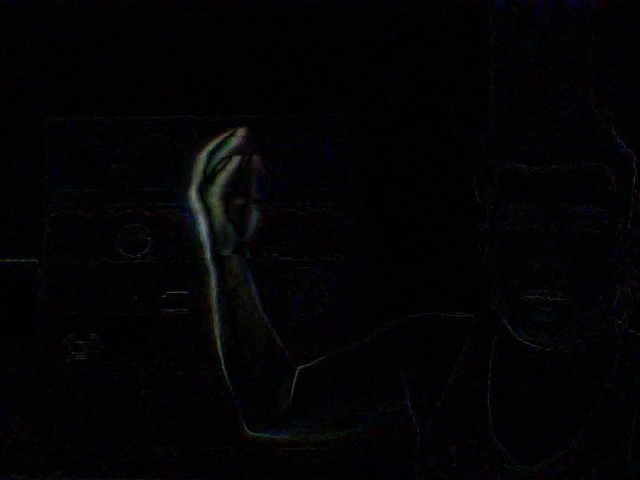arm_fo: (173, 114, 286, 421)
